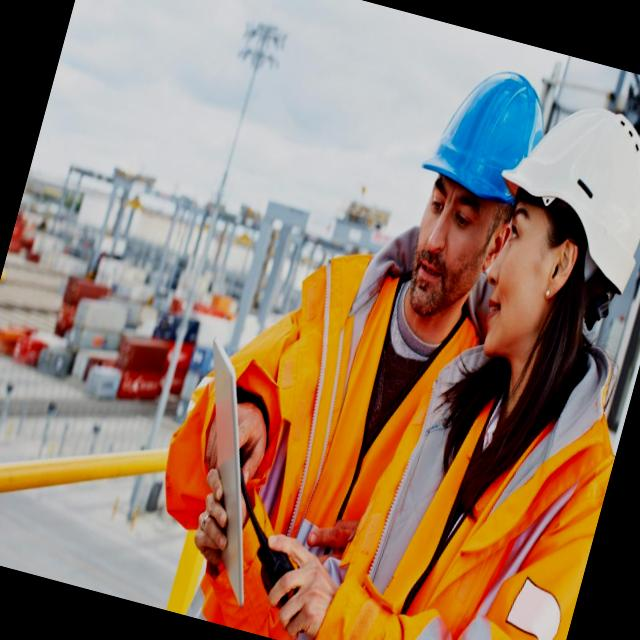helmet: (411, 36, 568, 233), (487, 82, 640, 269)
no-goggles: (479, 198, 579, 284), (404, 178, 506, 258)
vest: (151, 243, 490, 640), (322, 323, 626, 640)
